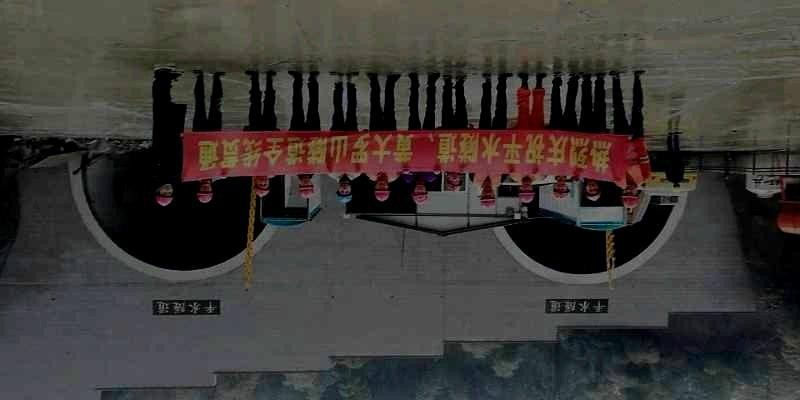helmet: (155, 183, 174, 207), (622, 185, 640, 208), (196, 180, 213, 204), (480, 186, 496, 209), (336, 182, 352, 204), (374, 180, 390, 202), (298, 179, 315, 199), (518, 183, 535, 203), (253, 177, 269, 198), (445, 174, 462, 192), (552, 182, 569, 200), (412, 185, 428, 204), (586, 182, 601, 202)
